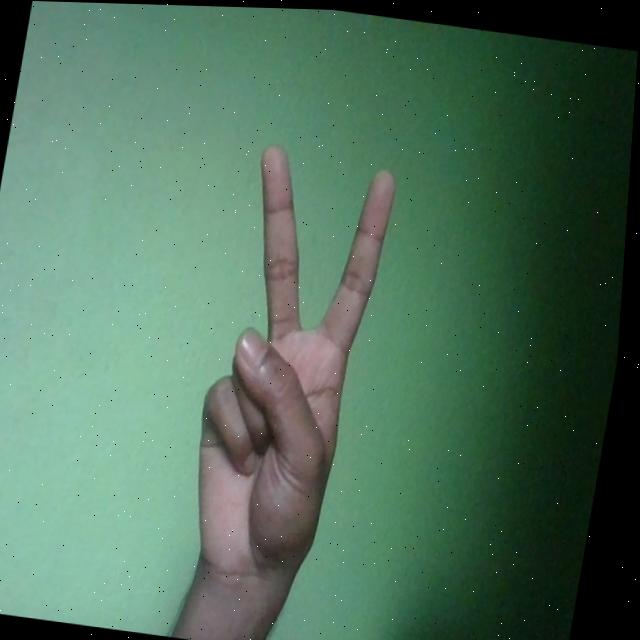Peace: (178, 135, 403, 606)
